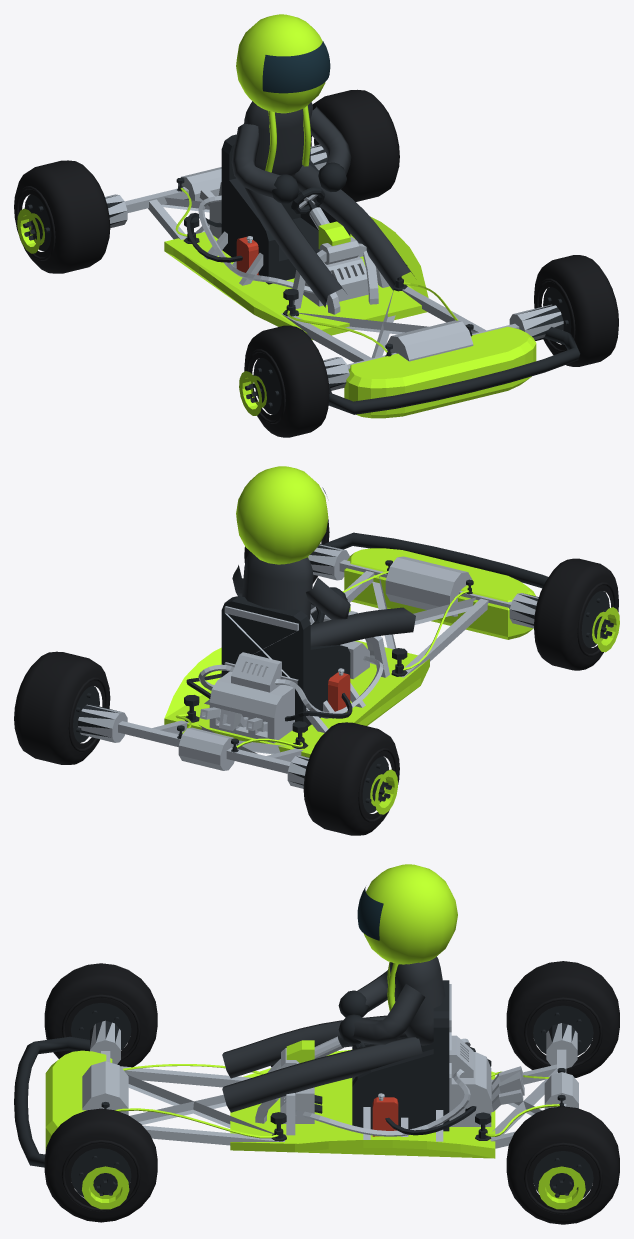
File: apex-lod.glb
3 renders of one model, top to bottom at view 1: azimuth 30°, elevation 25°; view 2: azimuth 150°, elevation 25°; view 3: azimuth 270°, elevation 25°, orthographic. The views are drawn at different scales.
Visible parts, largest first — view 1: body_paint, body_metal, body_suit, body_graphite, wheel_rr_rubber, wheel_fr_rubber, wheel_fl_rubber, wheel_rl_rubber, body_visor, wheel_fr_graphite, wheel_rr_graphite, wheel_fl_graphite (+3 smaller); view 2: body_metal, body_paint, body_graphite, wheel_rl_rubber, wheel_rr_rubber, body_suit, wheel_fr_rubber, wheel_fr_graphite, wheel_rl_graphite, wheel_rr_graphite, wheel_fr_paint, wheel_rr_paint (+1 smaller); view 3: body_paint, body_metal, body_suit, body_graphite, wheel_rl_rubber, wheel_rr_rubber, wheel_fl_rubber, wheel_fr_rubber, wheel_rr_graphite, wheel_fl_graphite, wheel_fr_graphite, wheel_rl_graphite (+4 smaller).
Boxes of the visible parts, x1,y1,x2,y2 form: body_paint: (164, 14, 536, 418); body_metal: (105, 144, 563, 390); body_suit: (231, 101, 414, 307); body_graphite: (176, 134, 580, 414); wheel_rr_rubber: (14, 160, 110, 273); wheel_fr_rubber: (244, 325, 329, 437); wheel_fl_rubber: (534, 255, 618, 366); wheel_rl_rubber: (310, 89, 399, 201); body_visor: (262, 41, 330, 93); wheel_fr_graphite: (245, 358, 347, 414); wheel_rr_graphite: (23, 194, 125, 251); wheel_fl_graphite: (522, 287, 571, 340); body_metal: (78, 544, 538, 788); body_paint: (164, 466, 535, 757); body_graphite: (177, 532, 548, 752); wheel_rl_rubber: (14, 651, 110, 764); wheel_rr_rubber: (303, 722, 399, 835); body_suit: (232, 551, 415, 646); wheel_fr_rubber: (534, 558, 618, 670); wheel_fr_graphite: (511, 591, 613, 647); wheel_rl_graphite: (73, 686, 119, 742); wheel_rr_graphite: (289, 756, 391, 813); wheel_fr_paint: (592, 607, 619, 652); wheel_rr_paint: (370, 769, 397, 814); body_paint: (45, 864, 559, 1158); body_metal: (82, 984, 578, 1148); body_suit: (222, 956, 445, 1112); body_graphite: (14, 980, 565, 1167); wheel_rl_rubber: (506, 1106, 619, 1224); wheel_rr_rubber: (506, 961, 619, 1077); wheel_fl_rubber: (44, 1108, 157, 1222); wheel_fr_rubber: (44, 963, 157, 1067); wheel_rr_graphite: (533, 1005, 593, 1055); wheel_fl_graphite: (71, 1148, 131, 1197); wheel_fr_graphite: (71, 1003, 131, 1050); wheel_rl_graphite: (533, 1151, 593, 1197).
Size of the model in its own units: 2.11 by 1.51 by 3.
